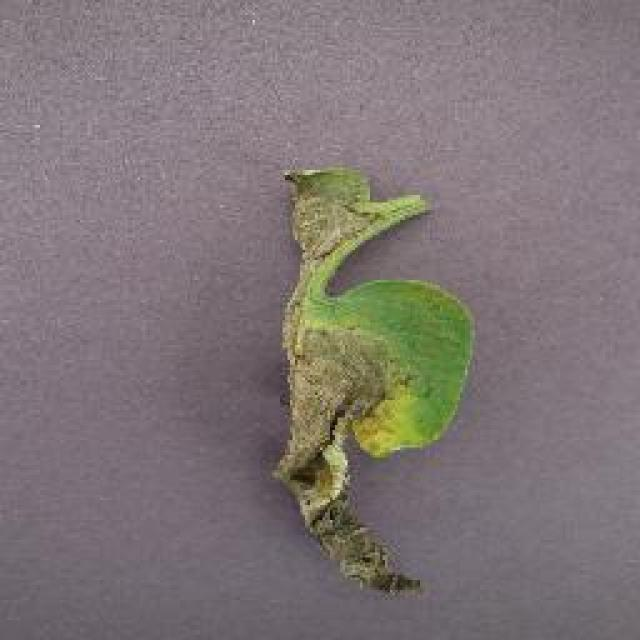Tomato___Late_blight: (270, 165, 478, 600)
